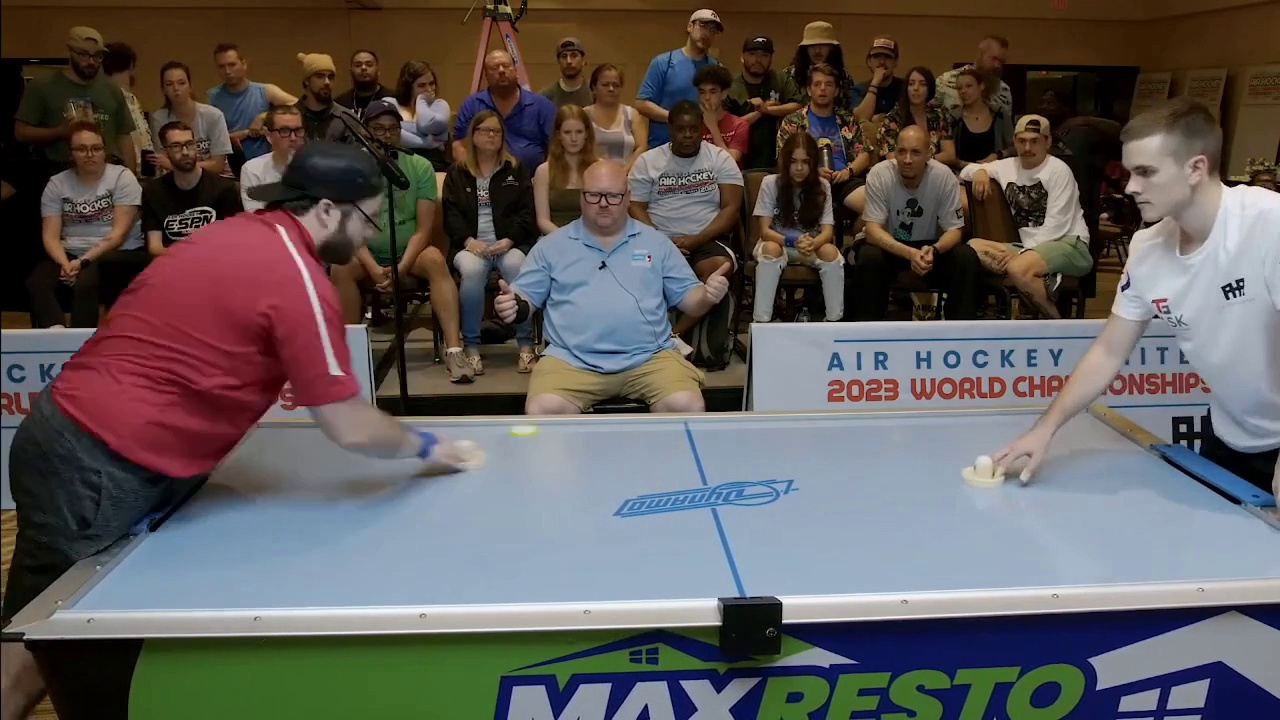player: (442, 436, 490, 471), (961, 457, 1010, 488)
puck: (505, 422, 538, 438)
table: (55, 417, 1279, 594)
